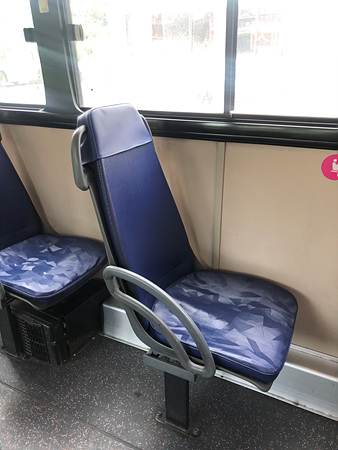seat: (83, 109, 301, 392)
